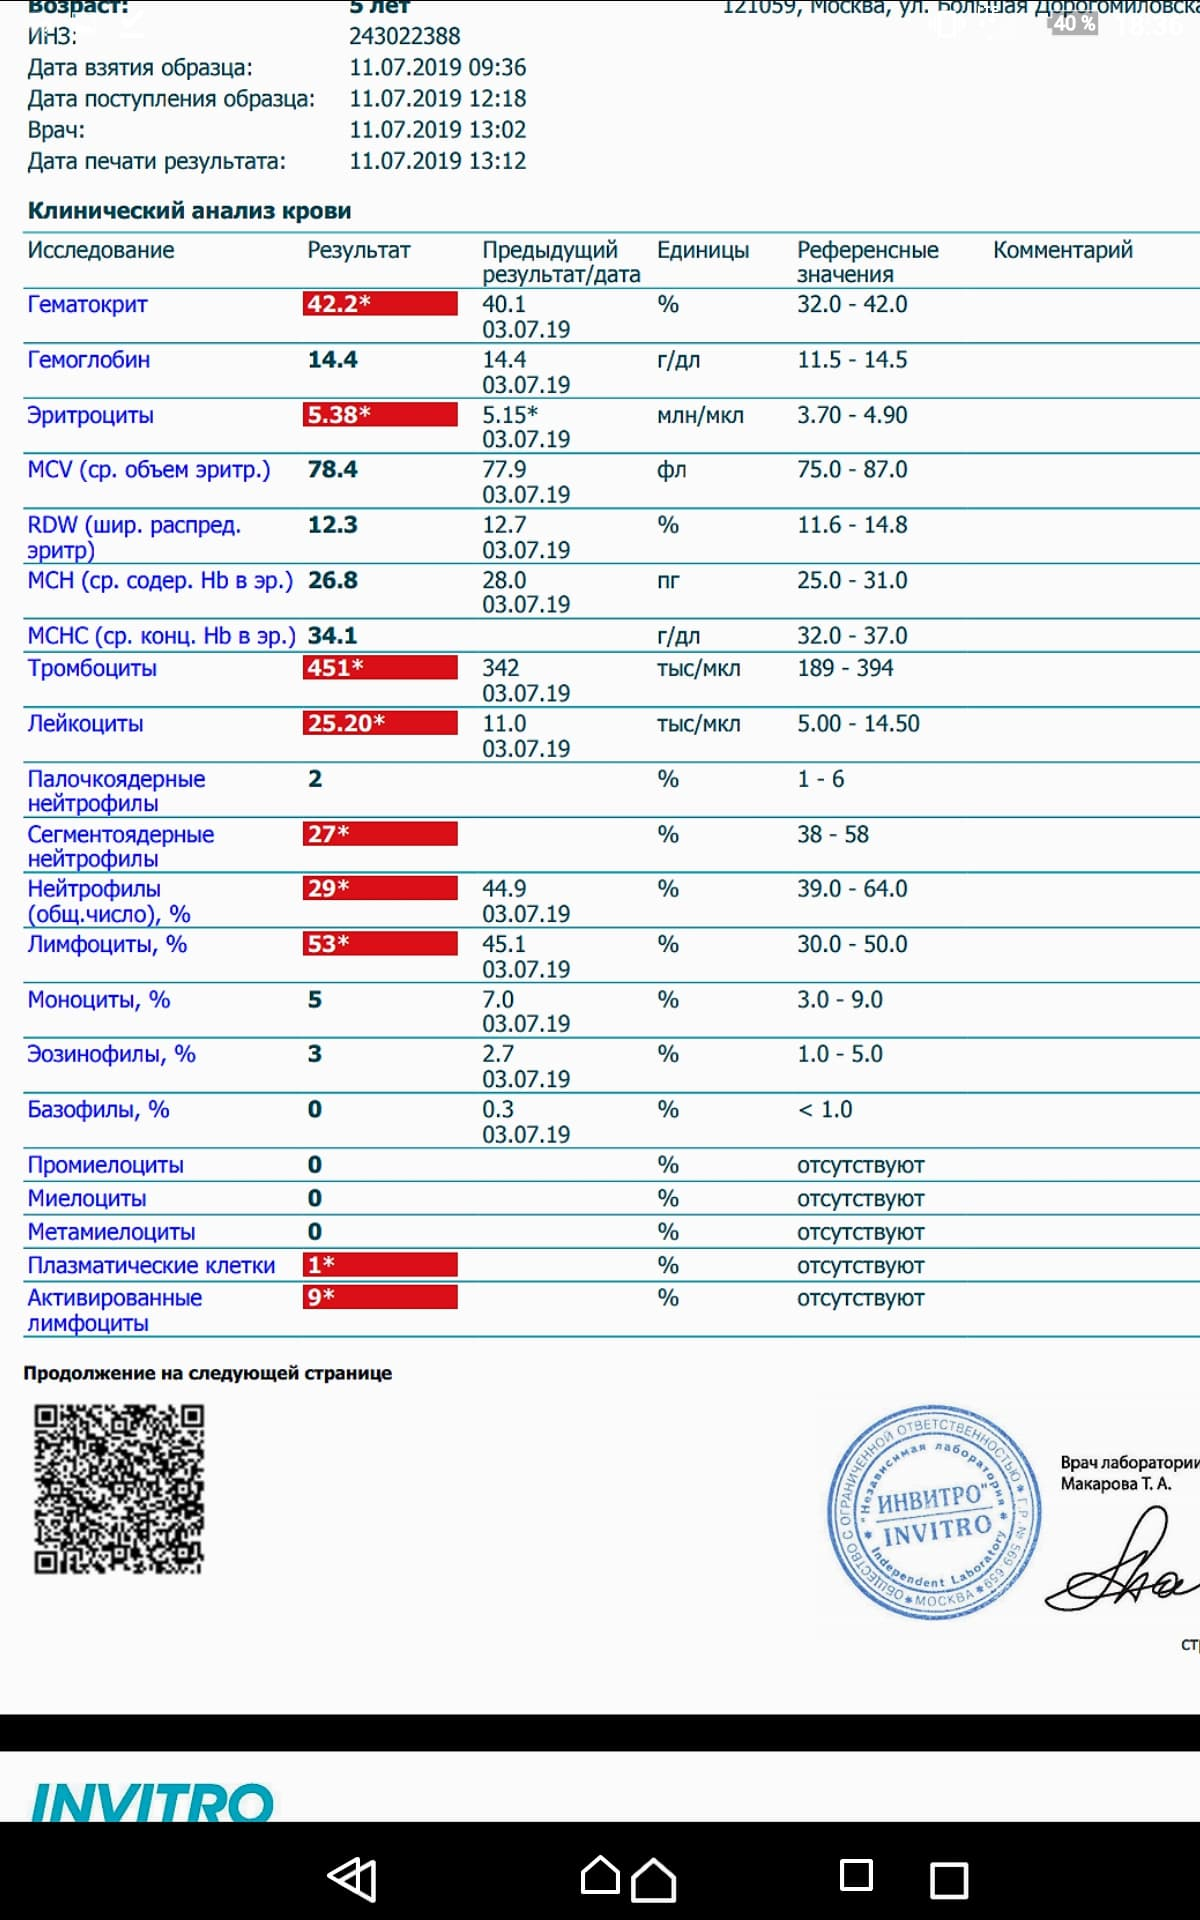column: (28, 232, 294, 1337), (481, 232, 641, 1337), (796, 232, 939, 1337), (993, 232, 1134, 1337), (307, 232, 412, 1337), (657, 232, 749, 1337)
